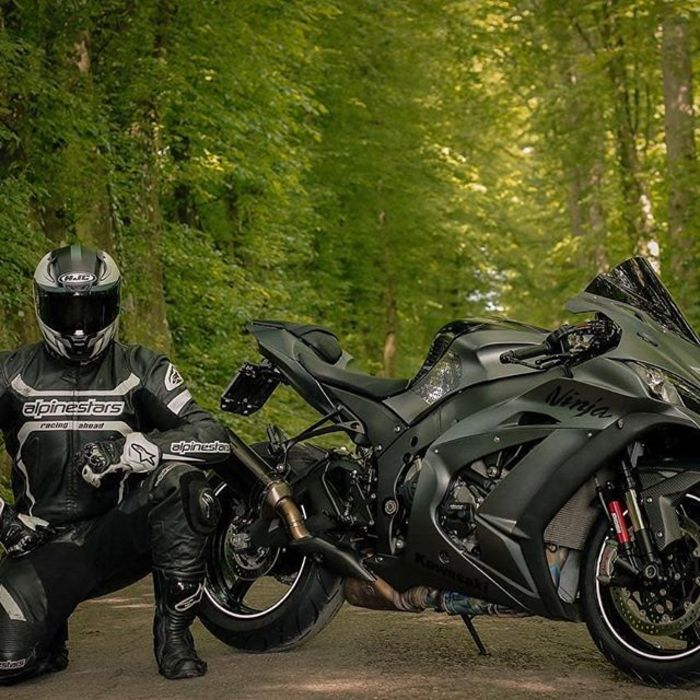h: (30, 244, 131, 370)
